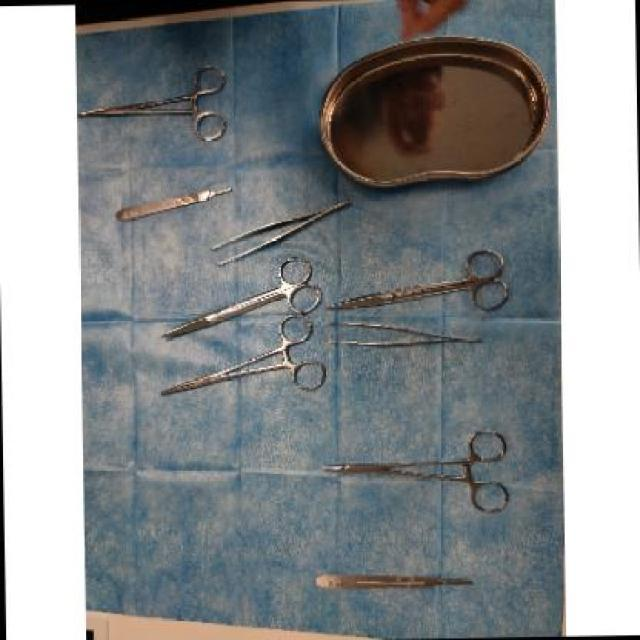tools_table: (78, 37, 556, 614)
